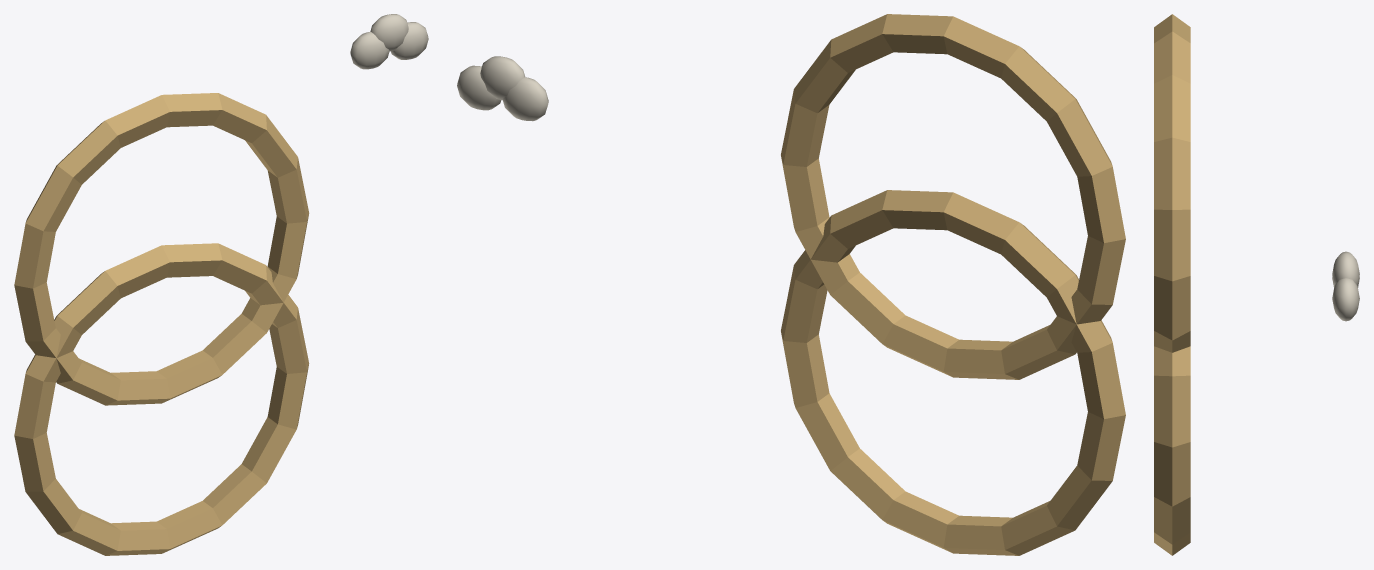
The model's file is m37_level_2.glb.
The picture shows the model from 3 angles, left to right: view 1: azimuth 30°, elevation 25°; view 2: azimuth 150°, elevation 25°; view 3: azimuth 270°, elevation 25°; orthographic projection. The views are drawn at different scales.
Parts seen in each view (by area): view 1: m37_level_2; view 2: m37_level_2; view 3: m37_level_2.
Part boxes in pixels (bbox=[...]): m37_level_2: bbox=[14, 14, 428, 555]; m37_level_2: bbox=[457, 14, 1125, 555]; m37_level_2: bbox=[1154, 14, 1359, 555].
Size of the model in its own units: 1.3 by 1.16 by 0.4268.
